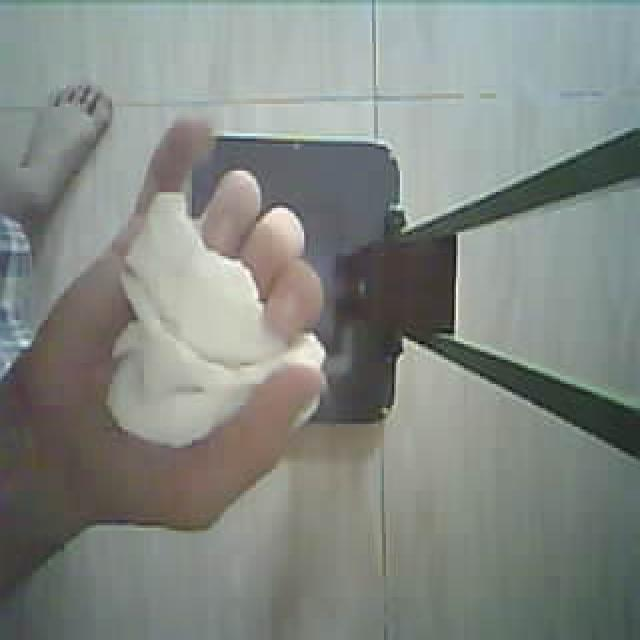Paper: (107, 166, 329, 475)
